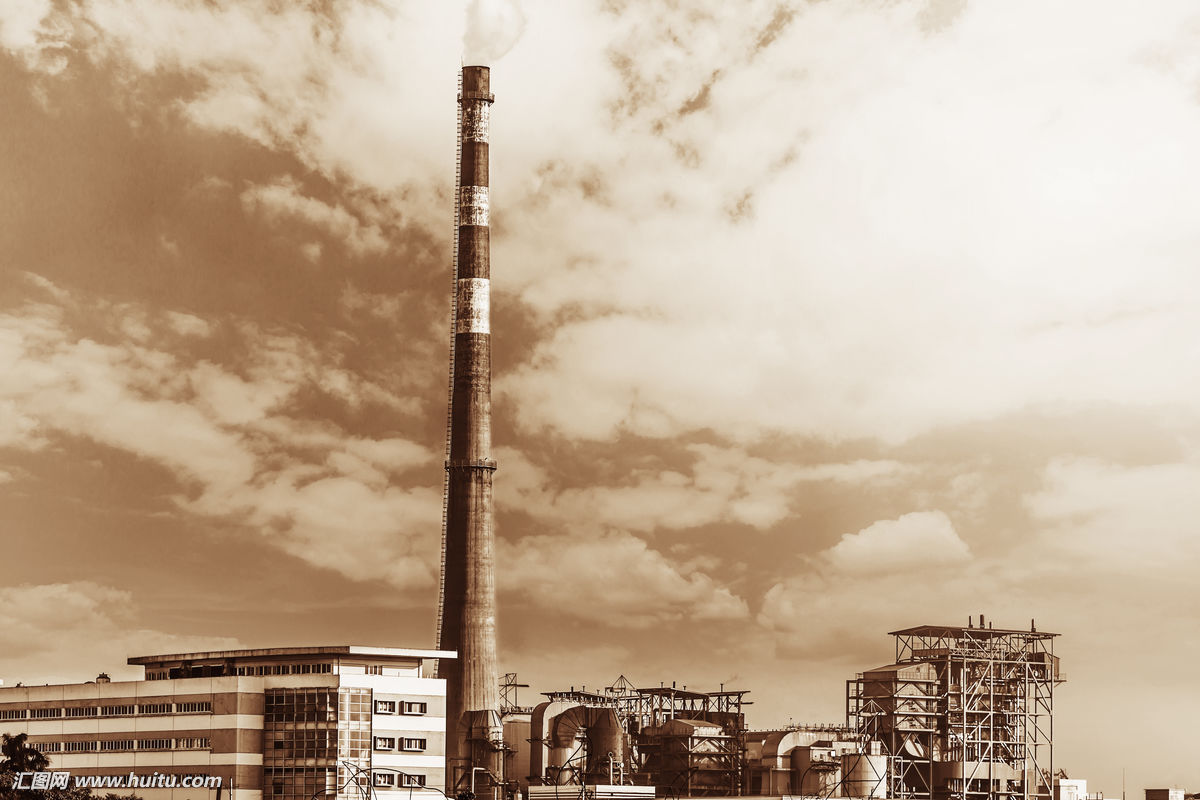dust: (442, 1, 547, 82)
